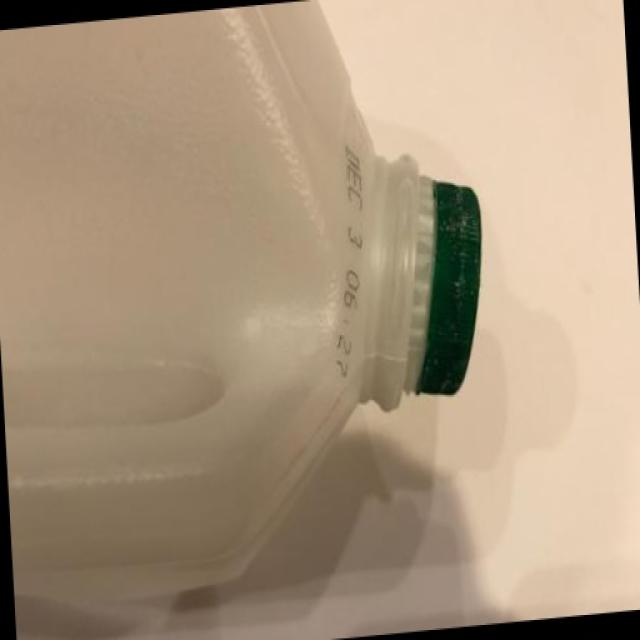plastico: (4, 0, 576, 614)
